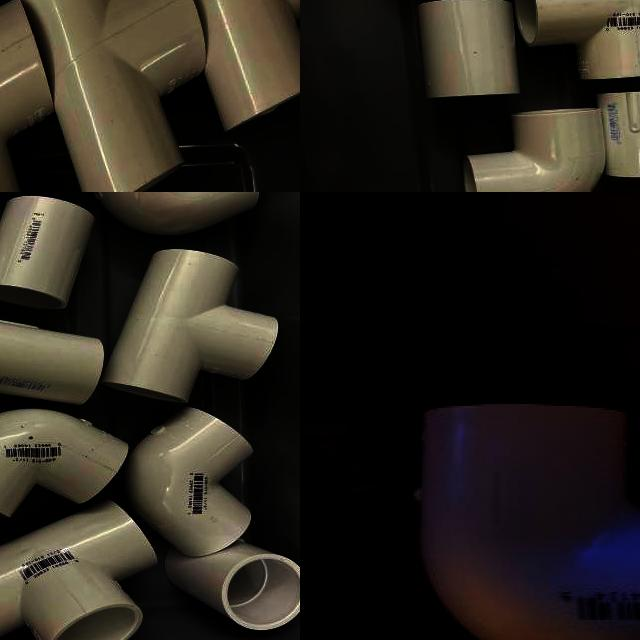L Joint: (414, 404, 640, 640), (130, 407, 254, 553), (0, 408, 129, 519), (465, 109, 606, 192), (97, 192, 258, 236)
T Joint: (17, 0, 207, 192), (100, 249, 278, 406), (0, 500, 158, 640)
